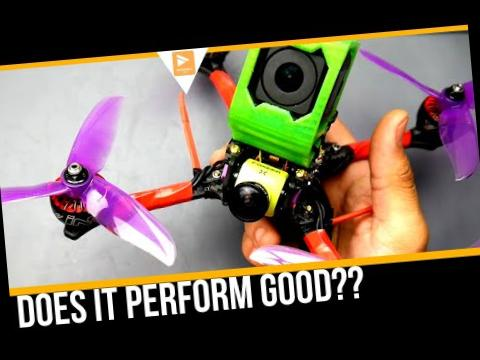drone: (28, 27, 480, 314)
